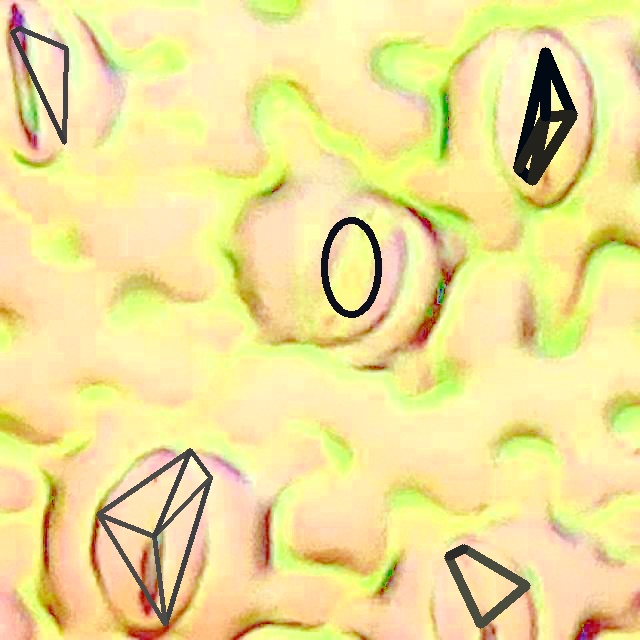close: (513, 48, 577, 185), (445, 544, 529, 628), (321, 217, 381, 317)
open: (96, 448, 211, 625), (11, 26, 68, 143)
